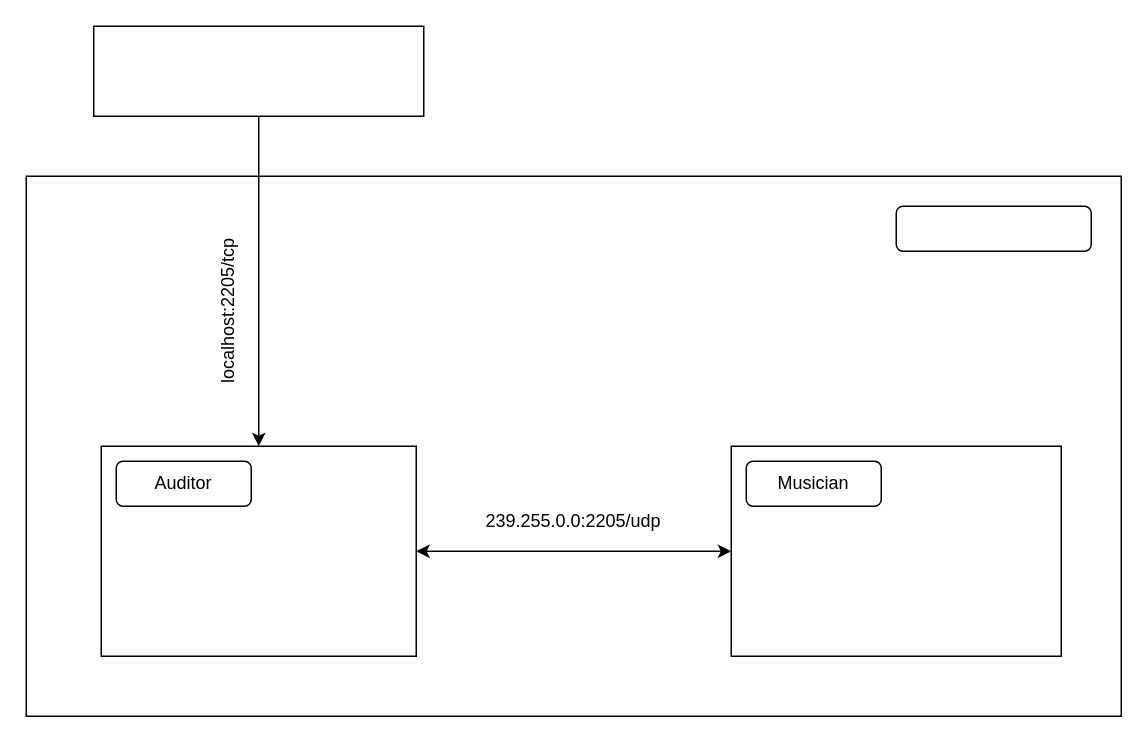
The diagram is 1148 pixels wide and 743 high, and some of its shapes have lost their labels. The centre of each missing label's shape, as x and y in pixels:
"Docker VM" goes at [993,228].
"telnet command: telnet localhost:2205/tcp" goes at [258,70].
